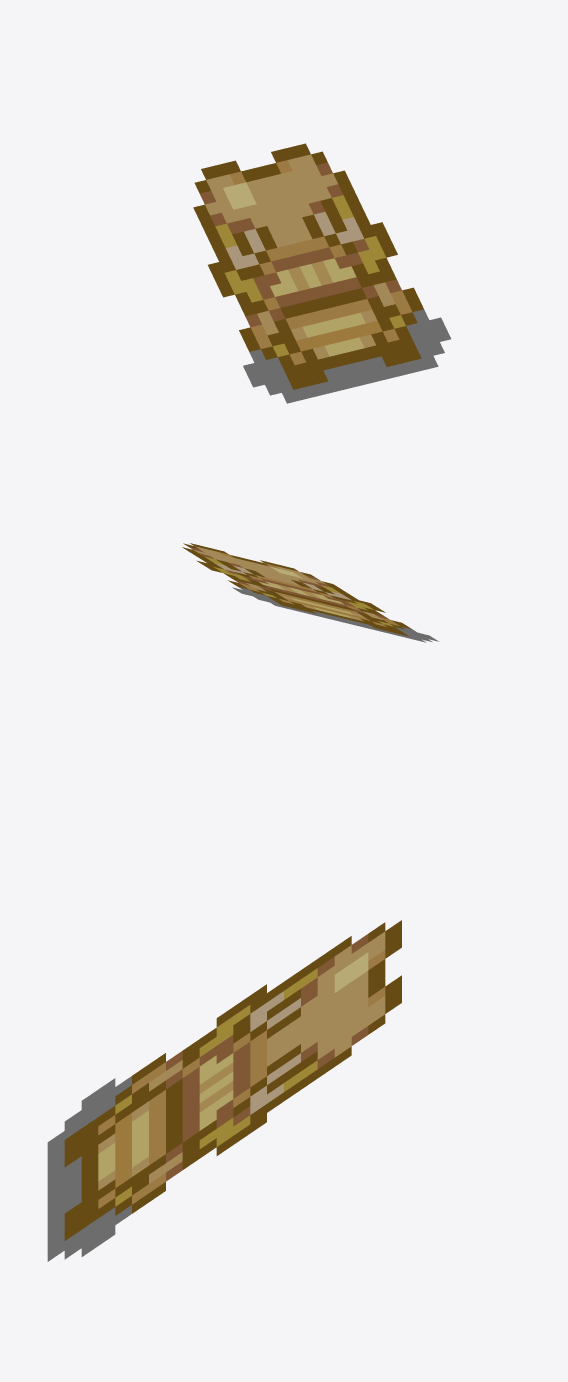
3 renders of one model, top to bottom at view 1: azimuth 30°, elevation 25°; view 2: azimuth 150°, elevation 25°; view 3: azimuth 270°, elevation 25°, orthographic. The views are drawn at different scales.
Parts seen in each view (by area): view 1: 00_polygon0; view 2: 00_polygon0; view 3: 00_polygon0.
Boxes of the visible parts, left/top/right/bottom form: 00_polygon0: left=193, top=143, right=451, bottom=403; 00_polygon0: left=182, top=543, right=439, bottom=642; 00_polygon0: left=47, top=920, right=401, bottom=1261.
Bounding box in the file's own units: 0.4844 × 0.2812 × 0.375.
1 material, 1 textured.
